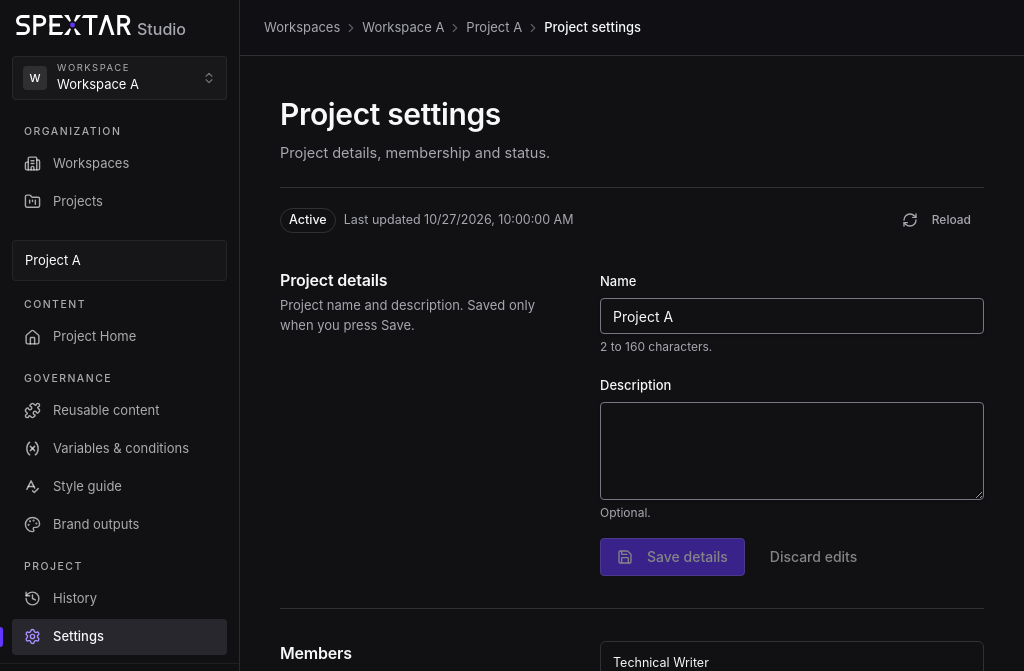
Test: Project Settings route › does not adopt a newer revision on background refetch while local details are dirty
Replace the text in the field with test id "input-name" with "Local edits" at (792, 316), box x1=600 y1=298 x2=984 y2=334
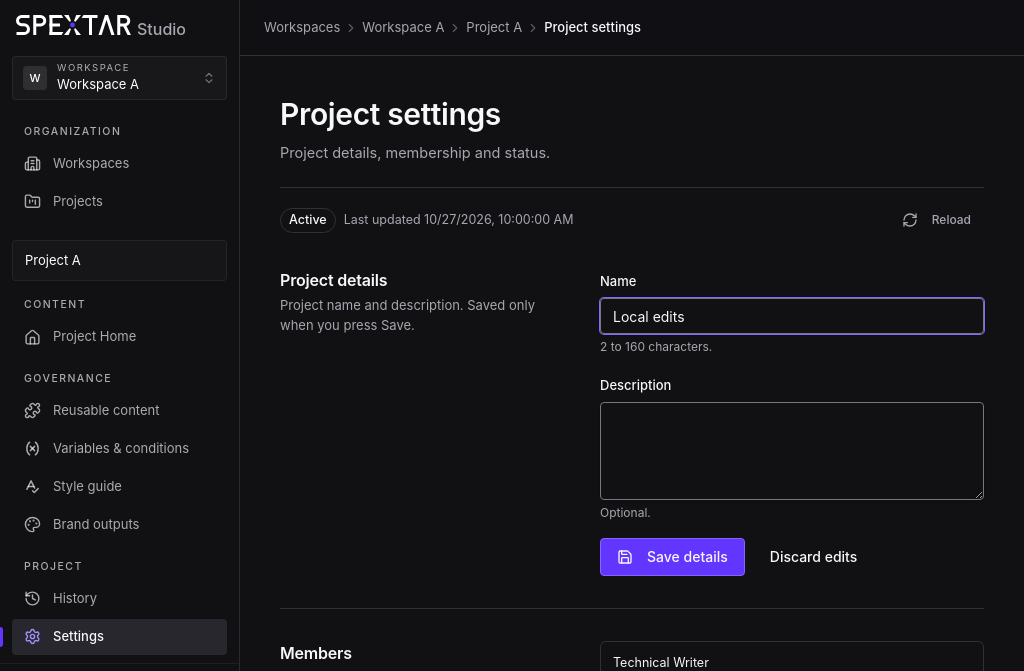
Click the button with test id "button-save-details" at (672, 557), box x1=600 y1=538 x2=745 y2=576
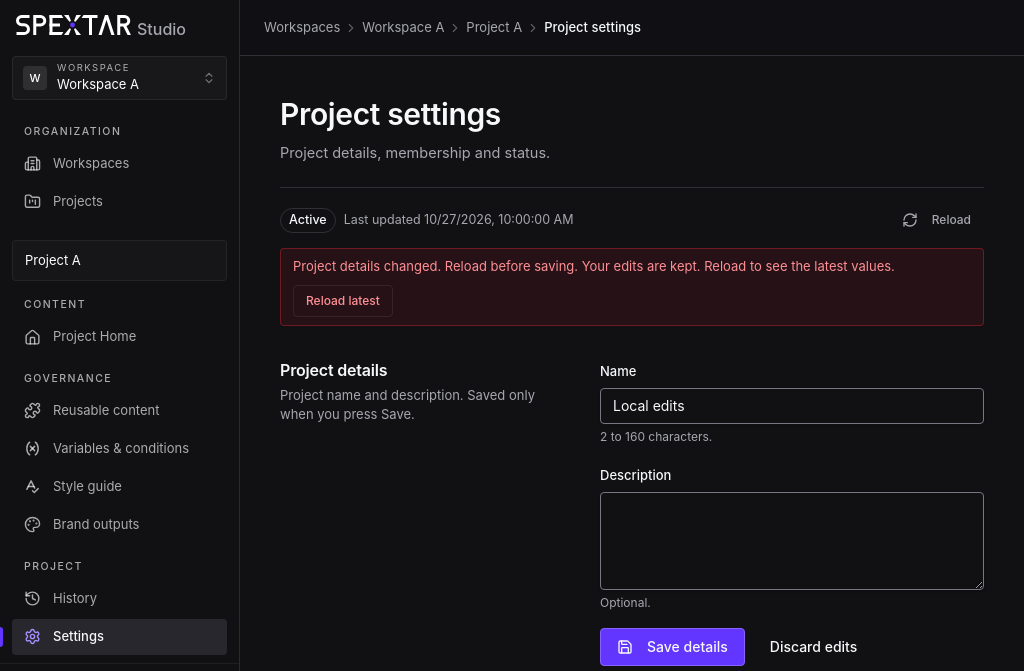
Result: the message with test id "alert-error" shows "changed" at x1=293 y1=258 x2=578 y2=274
Click the button with test id "button-conflict-reload" at (343, 301), box x1=293 y1=285 x2=393 y2=317
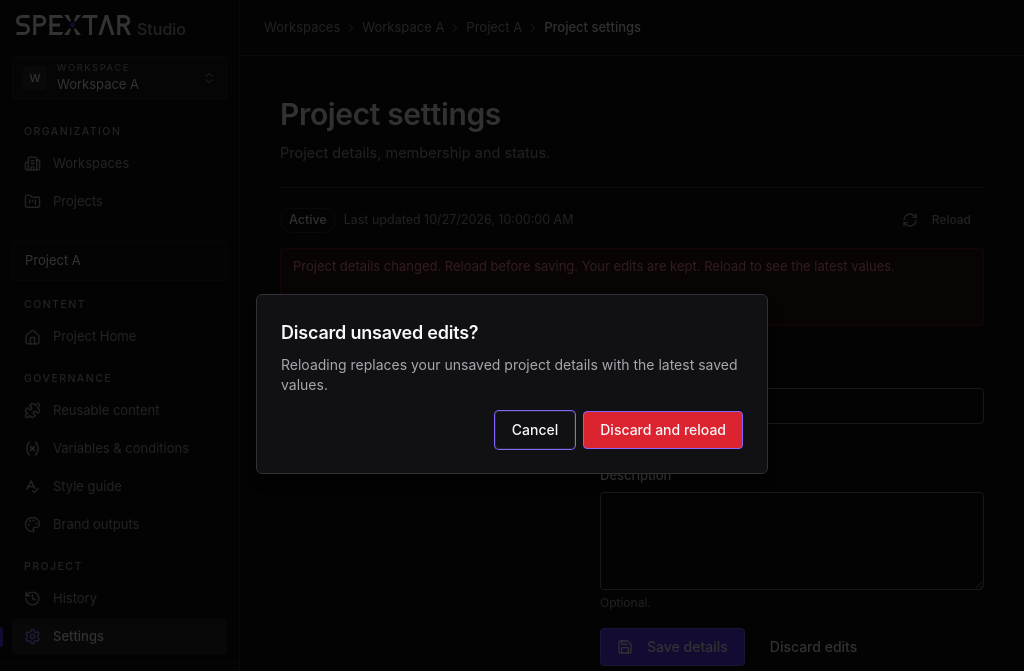
Click the button with test id "button-confirm" at (663, 430), box x1=583 y1=411 x2=743 y2=449
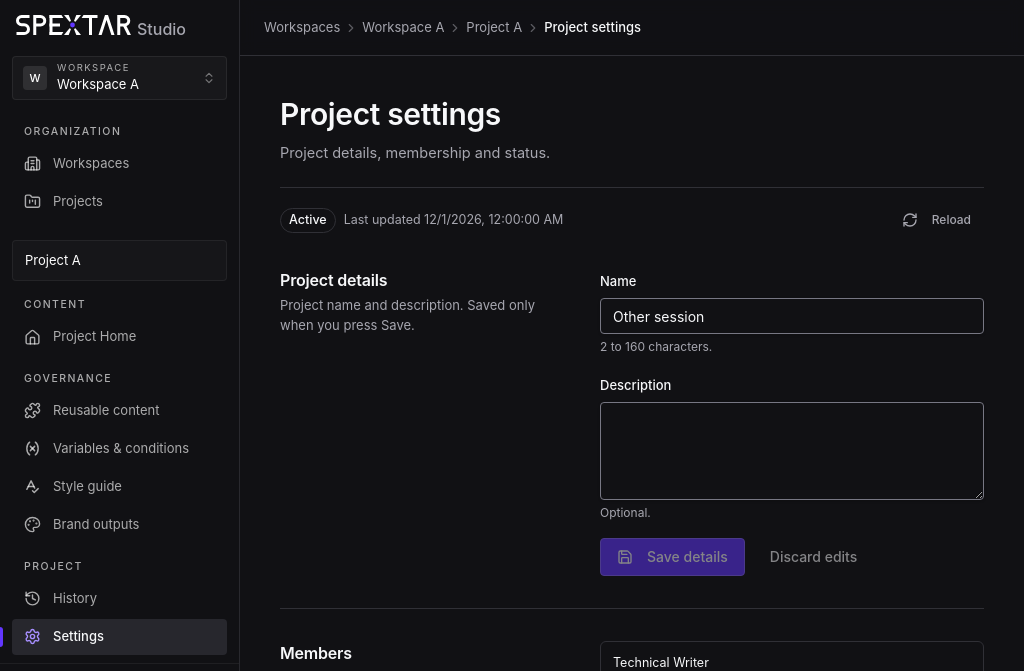
Result: the dialog with test id "dialog-confirm" is gone
Result: the field with test id "input-name" holds "Other session" at x1=600 y1=298 x2=984 y2=334
